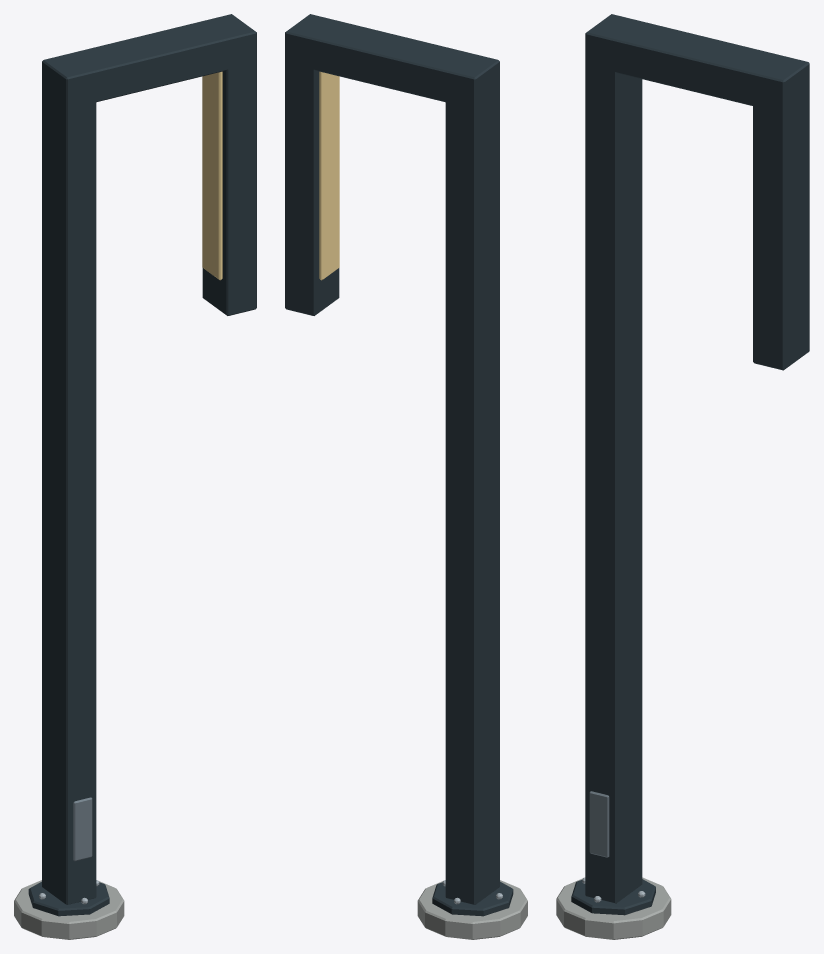
File: b18_rectangular_frame_promenade_light.glb
The picture shows the model from 3 angles, left to right: view 1: azimuth 30°, elevation 25°; view 2: azimuth 150°, elevation 25°; view 3: azimuth 330°, elevation 25°; orthographic projection. The views are drawn at different scales.
Visible parts, largest first — view 1: b18_rectangular_frame_promenade_light; view 2: b18_rectangular_frame_promenade_light; view 3: b18_rectangular_frame_promenade_light.
Part boxes in pixels (x1=…): b18_rectangular_frame_promenade_light: x1=14, y1=14, x2=256, y2=939; b18_rectangular_frame_promenade_light: x1=285, y1=14, x2=527, y2=939; b18_rectangular_frame_promenade_light: x1=556, y1=14, x2=809, y2=939.
Bounding box in the file's own units: 1.17 × 4.26 × 0.5.
